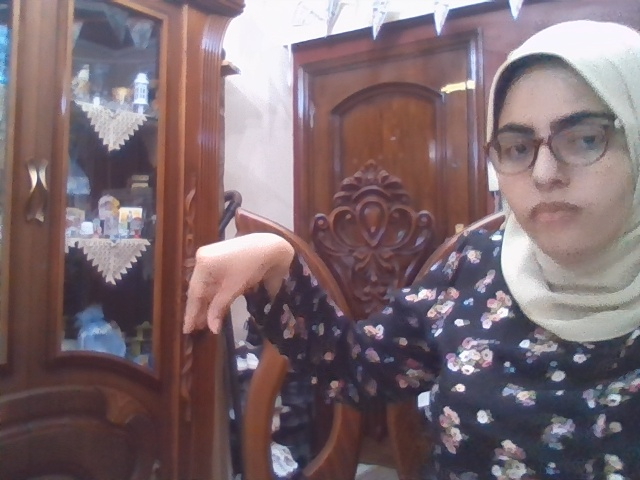Q: (184, 233, 287, 335)
